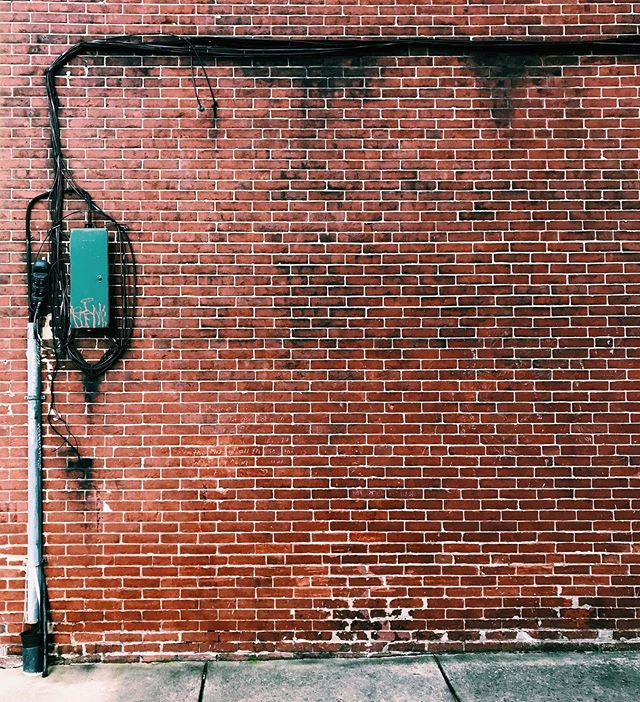wall: (6, 1, 640, 659)
